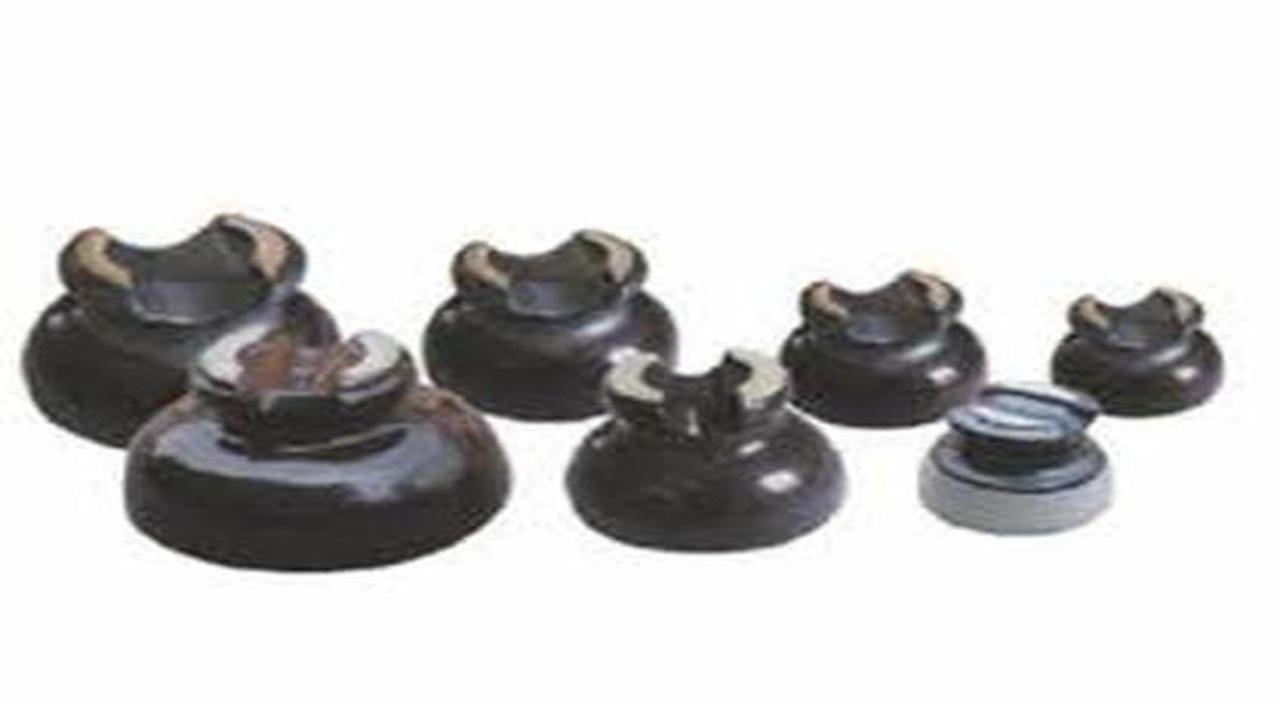insulator_pin: (102, 316, 527, 584)
